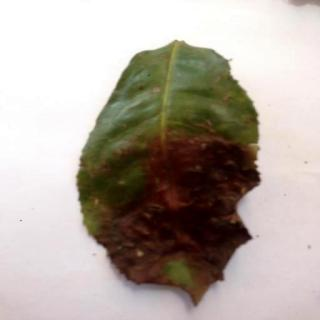Algal Leaf: (76, 41, 261, 307)
